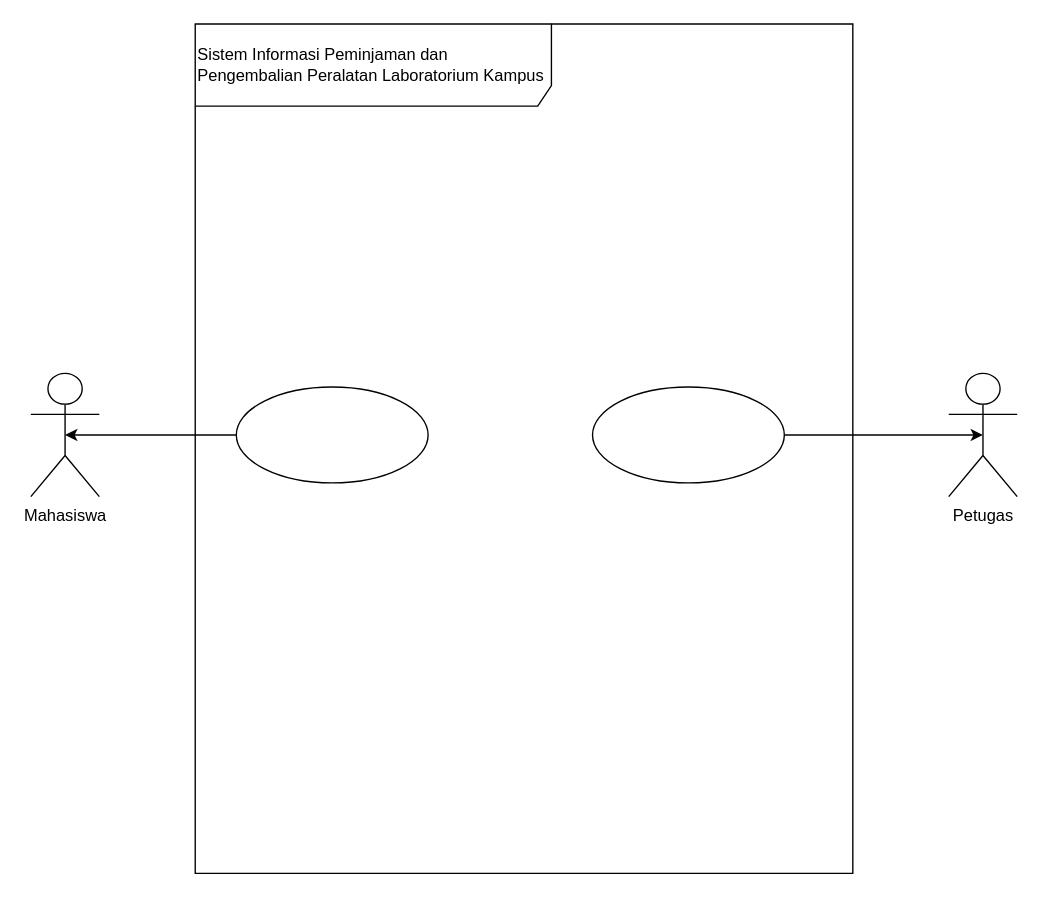
This 1041x897 diagram has some shape labels left out. The shapes that lost their labels are listed below. From the top down, each one's centre as x and y in pixels, then its label:
At (331,434): "Lihat ketersediaan peralatan".
At (687,434): "Kelola data peralan".
